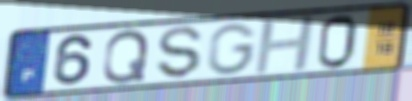0: (316, 13, 362, 70)
6: (52, 33, 96, 88)
G: (206, 22, 260, 77)
H: (251, 13, 318, 77)
Q: (100, 28, 152, 86)
S: (156, 25, 205, 81)
